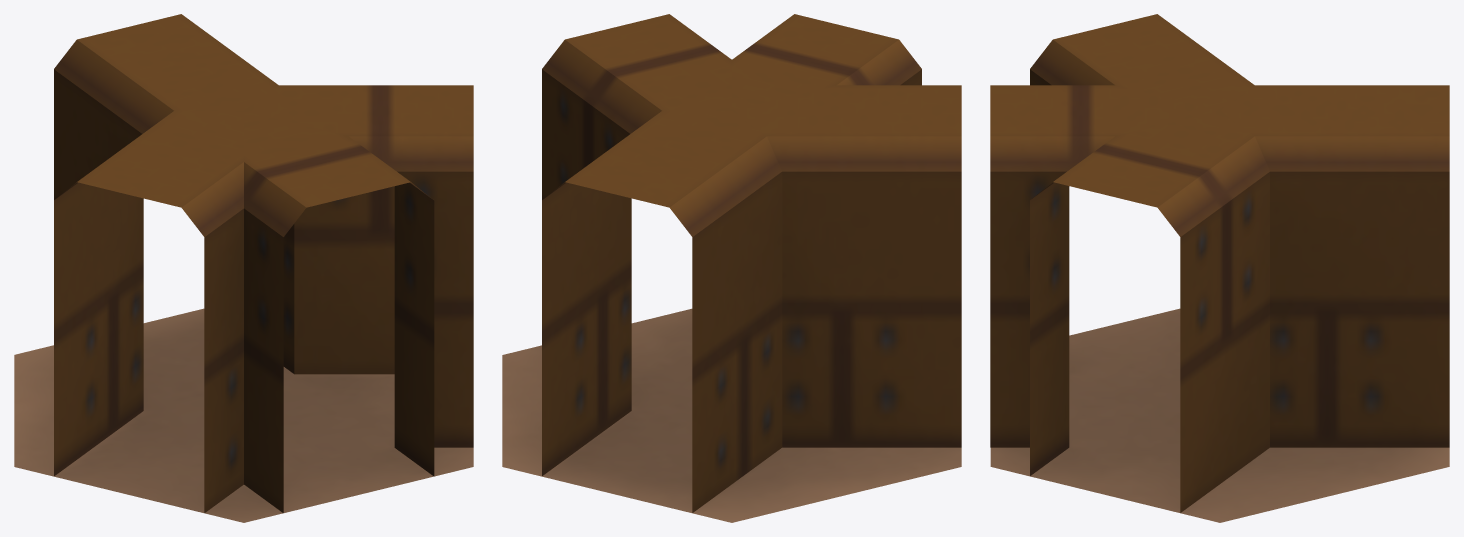
File: Barriere_YC.FBX
3 renders of one model, left to right at view 1: azimuth 30°, elevation 25°; view 2: azimuth 150°, elevation 25°; view 3: azimuth 270°, elevation 25°, orthographic.
Visible parts, largest first — view 1: Barriere_YC; view 2: Barriere_YC; view 3: Barriere_YC.
Part boxes in pixels (x1,y1,x2,y2): Barriere_YC: (14,14,473,522); Barriere_YC: (502,14,961,522); Barriere_YC: (990,14,1449,522).
Bounding box in the file's own units: 1 × 0.6247 × 0.8665.
